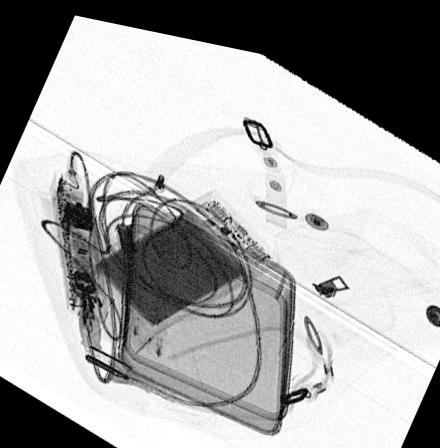Powerbank: (87, 179, 283, 333)
